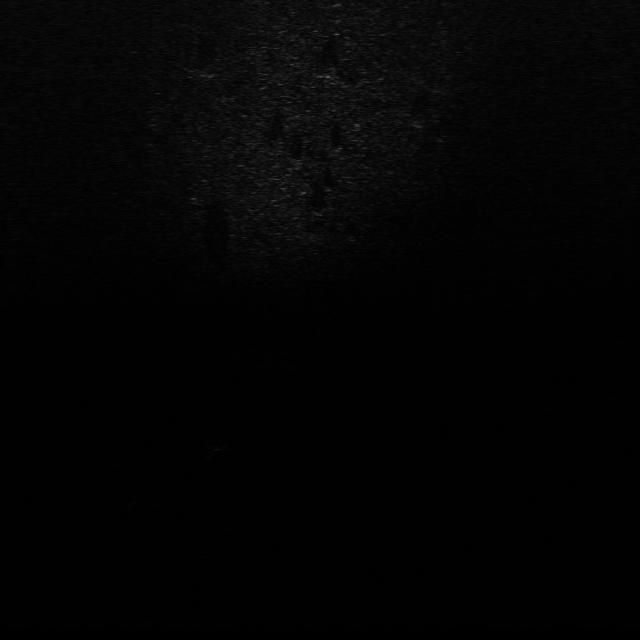ball: (203, 436, 237, 463)
